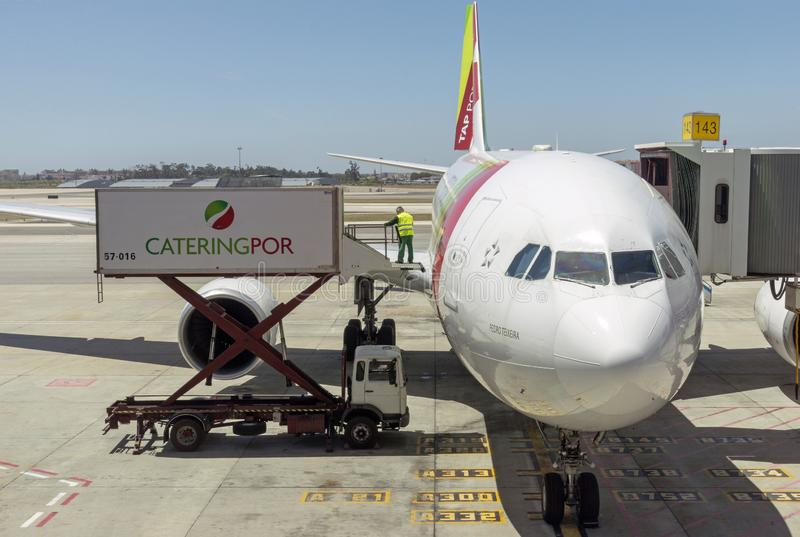Catering truck: (75, 158, 442, 483)
